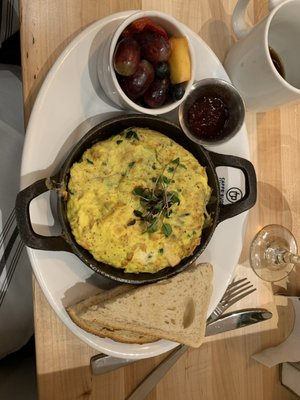sushi: (105, 14, 193, 116), (177, 77, 246, 148)
